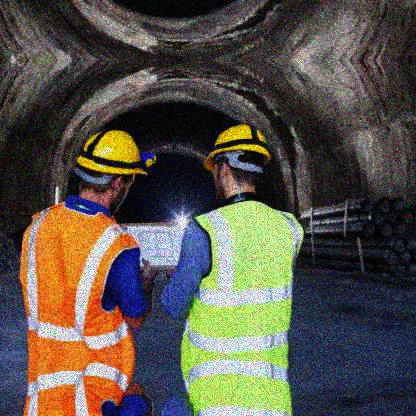helmet: (73, 129, 158, 212), (202, 123, 274, 203)
